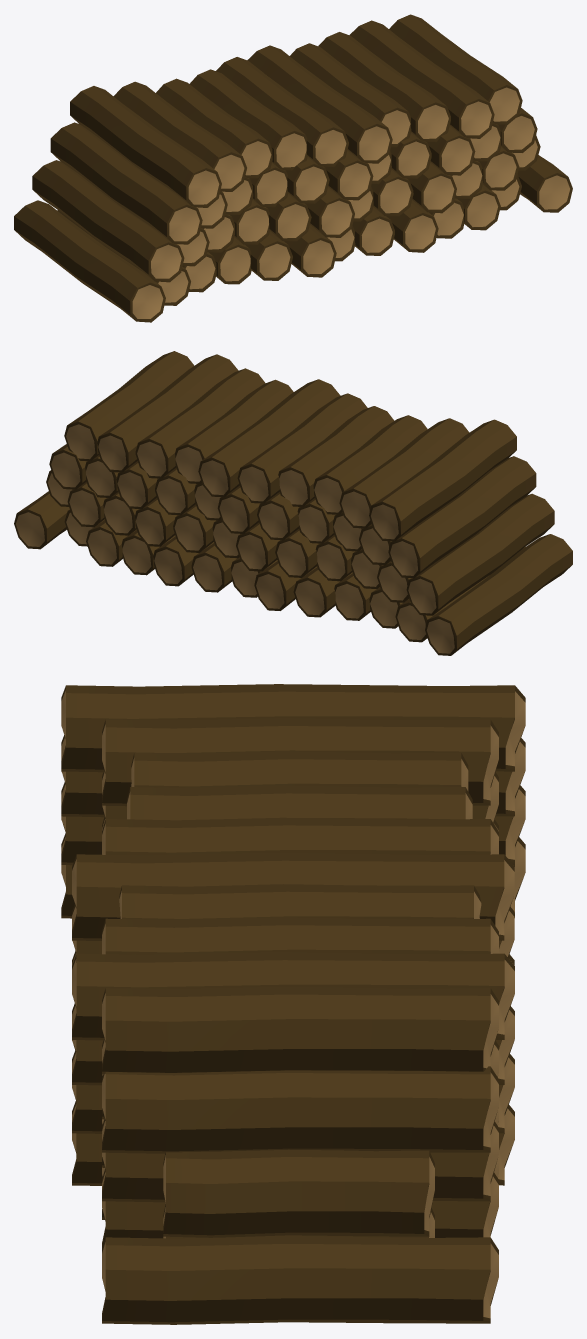
The model's file is BigLogPile.fbx.
3 renders of one model, top to bottom at view 1: azimuth 30°, elevation 25°; view 2: azimuth 150°, elevation 25°; view 3: azimuth 270°, elevation 25°, orthographic. The views are drawn at different scales.
Visible parts, largest first — view 1: TreeLog77; view 2: TreeLog77; view 3: TreeLog77.
Part boxes in pixels (bbox=[...]): TreeLog77: bbox=[14, 14, 572, 322]; TreeLog77: bbox=[14, 351, 572, 655]; TreeLog77: bbox=[61, 684, 525, 1324].
Bounding box in the file's own units: 328 × 96.17 × 145.
